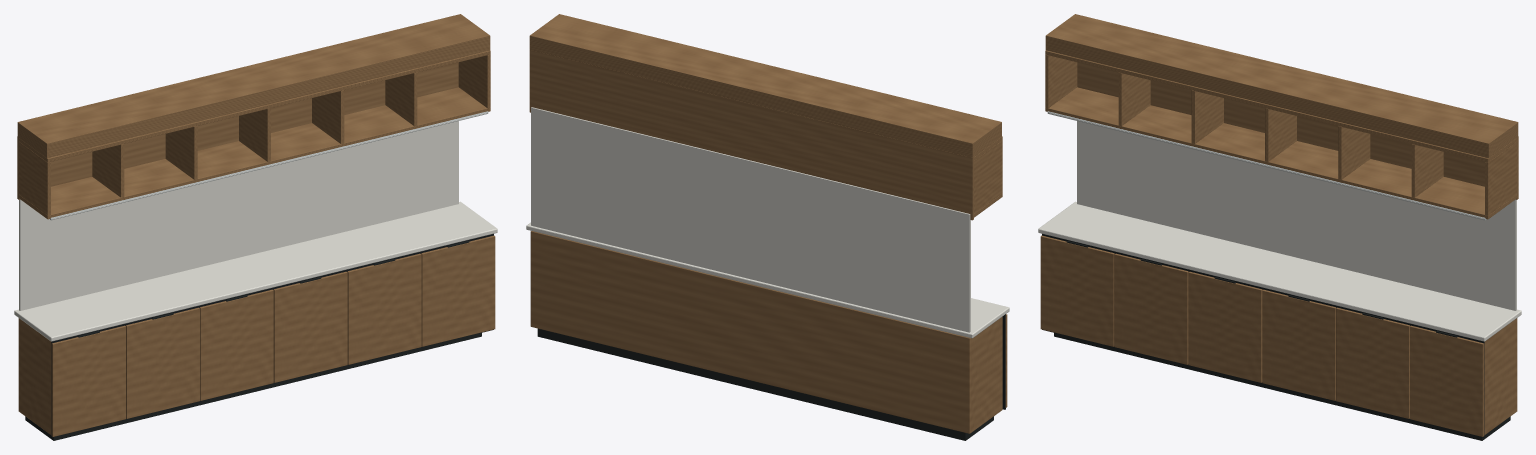
The model's file is lod1_source.glb.
The picture shows the model from 3 angles, left to right: view 1: azimuth 30°, elevation 25°; view 2: azimuth 150°, elevation 25°; view 3: azimuth 330°, elevation 25°; orthographic projection.
Visible parts, largest first — view 1: White backing between display and shelf, Upper shallow fascia, Warm white counter slab, Upper shelf base, Base cabinet wood door 5, Base cabinet wood door 0, Base cabinet wood door 3, Base cabinet wood door 4, Base cabinet wood door 1, Base cabinet wood door 2, Upper cubby wood back, Lower cabinet carcass (+12 smaller); view 2: White backing between display and shelf, Lower cabinet carcass, Upper cubby wood back, Upper shallow fascia, Recessed cabinet plinth, Warm white counter slab, Upper cubby upright 0; view 3: White backing between display and shelf, Upper shallow fascia, Warm white counter slab, Upper shelf base, Base cabinet wood door 0, Base cabinet wood door 5, Base cabinet wood door 2, Base cabinet wood door 1, Base cabinet wood door 4, Base cabinet wood door 3, Upper cubby wood back, Lower cabinet carcass (+12 smaller).
Part boxes in pixels (bbox=[...]): White backing between display and shelf: bbox=[19, 121, 458, 310]; Upper shallow fascia: bbox=[17, 14, 490, 158]; Warm white counter slab: bbox=[14, 201, 497, 341]; Upper shelf base: bbox=[18, 87, 490, 219]; Base cabinet wood door 5: bbox=[421, 235, 495, 346]; Base cabinet wood door 0: bbox=[51, 325, 125, 436]; Base cabinet wood door 3: bbox=[273, 271, 347, 382]; Base cabinet wood door 4: bbox=[347, 253, 421, 364]; Base cabinet wood door 1: bbox=[125, 307, 199, 418]; Base cabinet wood door 2: bbox=[199, 289, 273, 400]; Upper cubby wood back: bbox=[17, 62, 458, 199]; Lower cabinet carcass: bbox=[18, 318, 51, 434]; White backing between display and shelf: bbox=[531, 107, 970, 332]; Lower cabinet carcass: bbox=[530, 231, 1002, 433]; Upper cubby wood back: bbox=[529, 50, 973, 220]; Upper shallow fascia: bbox=[529, 14, 1001, 157]; Recessed cabinet plinth: bbox=[537, 328, 993, 440]; Warm white counter slab: bbox=[526, 222, 1009, 338]; Upper cubby upright 0: bbox=[974, 140, 1002, 213]; White backing between display and shelf: bbox=[1077, 121, 1516, 310]; Upper shallow fascia: bbox=[1045, 14, 1518, 158]; Warm white counter slab: bbox=[1038, 201, 1521, 341]; Upper shelf base: bbox=[1045, 87, 1517, 219]; Base cabinet wood door 0: bbox=[1040, 235, 1114, 346]; Base cabinet wood door 5: bbox=[1410, 325, 1484, 436]; Base cabinet wood door 2: bbox=[1188, 271, 1262, 382]; Base cabinet wood door 1: bbox=[1114, 253, 1188, 364]; Base cabinet wood door 4: bbox=[1336, 307, 1410, 418]; Base cabinet wood door 3: bbox=[1262, 289, 1336, 400]; Upper cubby wood back: bbox=[1077, 62, 1518, 199]; Lower cabinet carcass: bbox=[1484, 318, 1517, 434].
Bounding box in the file's own units: 3.63 × 2.33 × 0.526.
6 materials, 1 textured.
